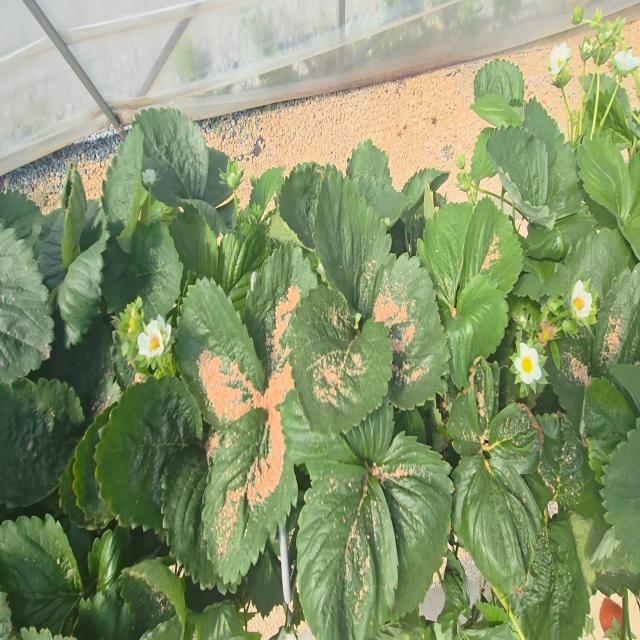Flowers: (117, 296, 144, 359), (137, 314, 171, 364), (511, 343, 542, 389), (570, 280, 594, 321), (550, 42, 570, 75), (614, 49, 640, 71), (597, 21, 615, 49), (580, 39, 594, 61), (142, 169, 156, 184)
Leaves: (298, 463, 398, 639), (202, 408, 297, 585), (96, 379, 202, 529), (285, 286, 391, 432), (378, 432, 452, 615), (178, 279, 266, 428), (314, 169, 394, 326), (453, 453, 541, 594), (373, 254, 449, 409), (244, 243, 317, 388), (0, 379, 82, 507), (0, 515, 82, 632), (510, 521, 589, 639), (0, 222, 54, 380), (161, 445, 219, 588), (103, 221, 183, 318), (441, 275, 508, 389), (133, 107, 208, 206), (461, 199, 523, 299), (57, 231, 109, 347), (582, 377, 636, 485), (602, 419, 640, 571), (418, 203, 473, 308), (591, 263, 640, 375), (563, 228, 634, 299), (578, 135, 634, 222), (486, 127, 547, 206), (216, 220, 268, 310), (102, 126, 146, 225), (487, 404, 541, 474), (279, 162, 322, 248), (169, 206, 217, 279), (74, 591, 140, 639), (121, 576, 174, 635), (350, 175, 409, 226), (400, 168, 449, 226), (61, 168, 87, 270), (88, 527, 128, 592), (437, 551, 469, 630), (447, 391, 483, 455), (474, 59, 524, 105), (347, 139, 393, 189), (38, 212, 64, 289), (195, 601, 245, 639), (202, 148, 232, 206), (250, 167, 284, 214)
Strawberries: (220, 159, 244, 193), (599, 598, 622, 632), (538, 321, 553, 346), (457, 169, 470, 191), (571, 7, 583, 24), (456, 153, 465, 169)
